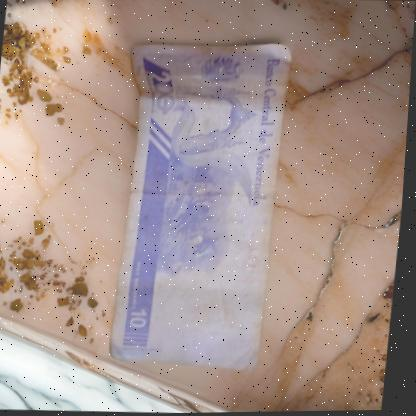ten-back-vef: (105, 41, 292, 367)
